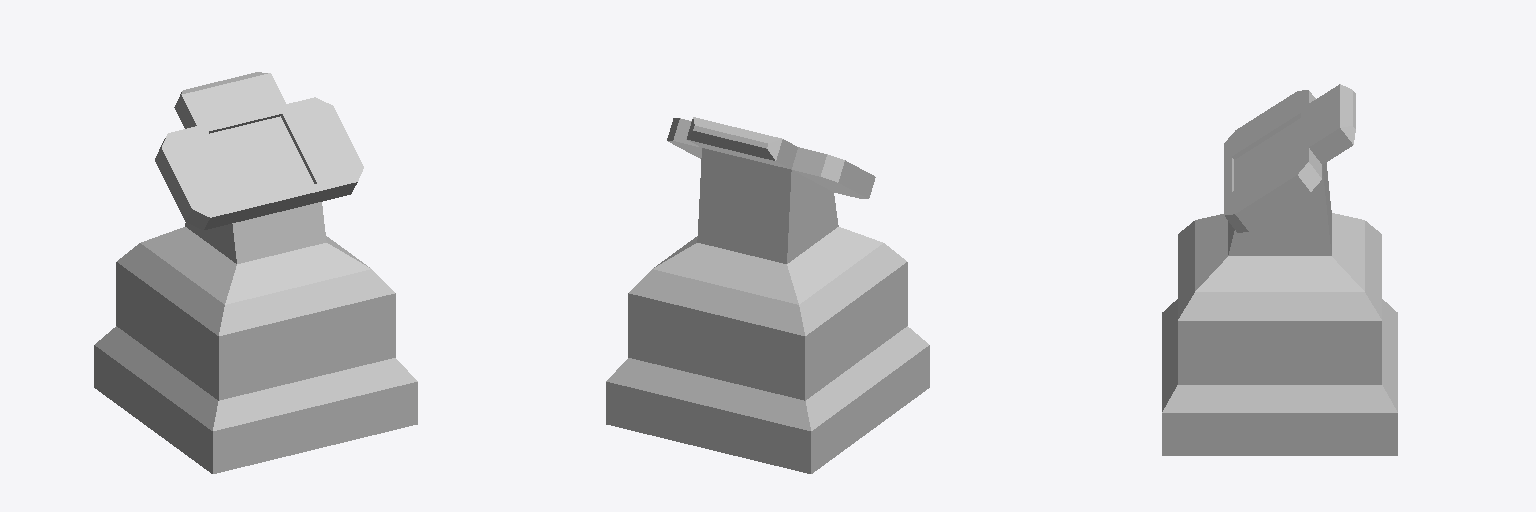
File: console.obj
The picture shows the model from 3 angles: view 1: azimuth 30°, elevation 25°; view 2: azimuth 150°, elevation 25°; view 3: azimuth 270°, elevation 25°; orthographic projection.
Visible parts, largest first — view 1: Cube.009_Cube; view 2: Cube.009_Cube; view 3: Cube.009_Cube.
Boxes of the visible parts, x1,y1,x2,y2 form: Cube.009_Cube: [94, 72, 417, 473]; Cube.009_Cube: [606, 117, 929, 473]; Cube.009_Cube: [1162, 84, 1397, 455].
Bounding box in the file's own units: 1 × 1.4 × 1.